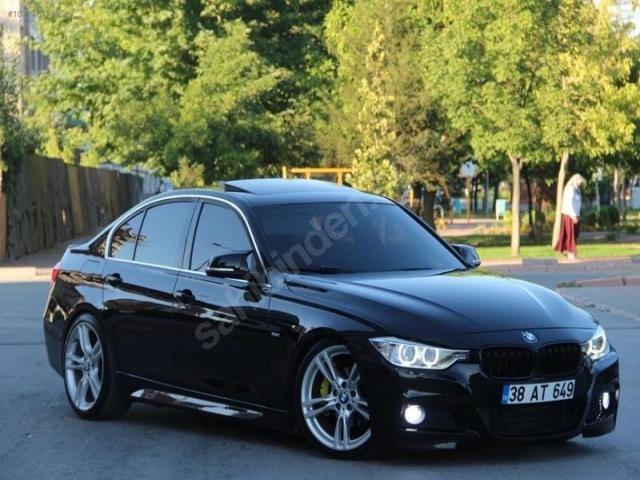plaka: (502, 380, 574, 403)
